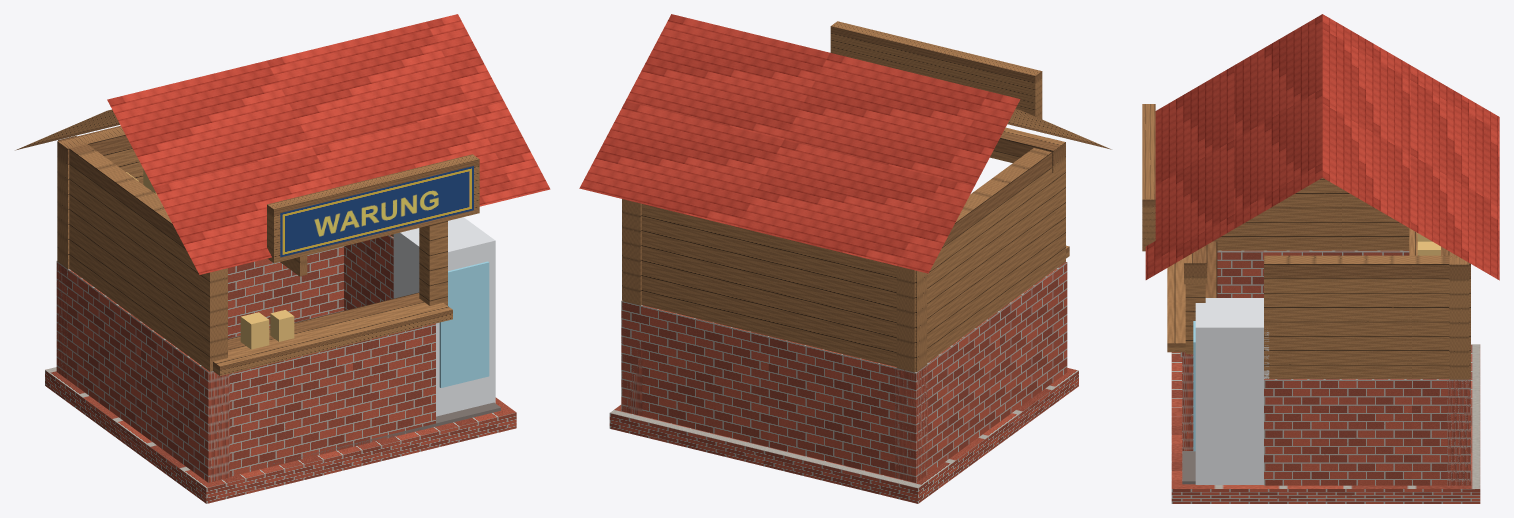
Rendered from warung.glb.
3 views of the same model, side by side, from view 1: azimuth 30°, elevation 25°; view 2: azimuth 150°, elevation 25°; view 3: azimuth 270°, elevation 25° (orthographic). The views are drawn at different scales.
Parts seen in each view (by area): view 1: Warung; view 2: Warung; view 3: Warung.
Part boxes in pixels (x1,y1,x2,y2): Warung: (15, 14, 550, 503); Warung: (579, 14, 1111, 503); Warung: (1142, 14, 1499, 503).
Size of the model in its own units: 2.32 by 2.22 by 2.14.
8 materials, 4 textured.
